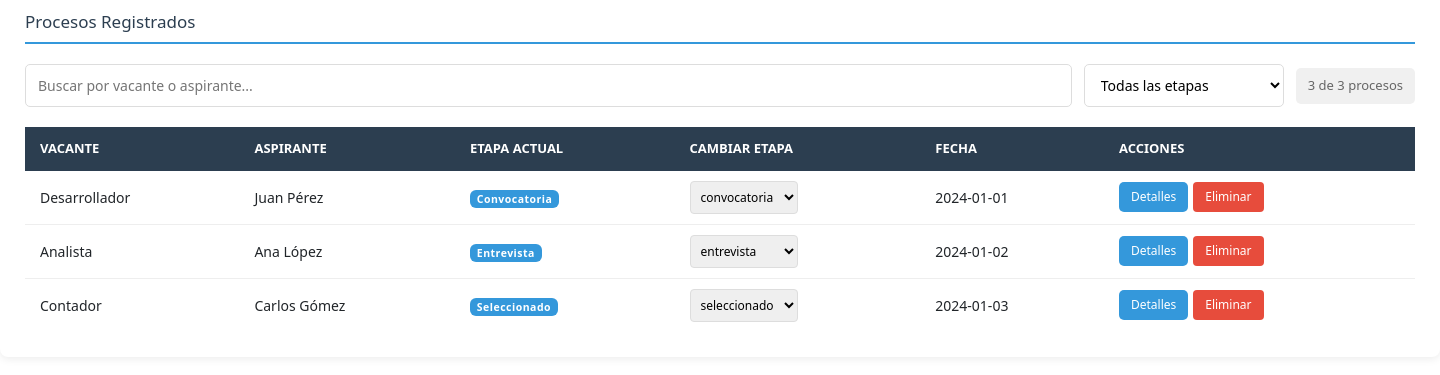
it: <ProcesosTable /> › filtra por etapa
Note: Apuntamos específicamente al select de filtro por su clase
Select "Entrevista" in the dropdown with class "select-filtro": (1184, 86) [1084,64,1284,107]
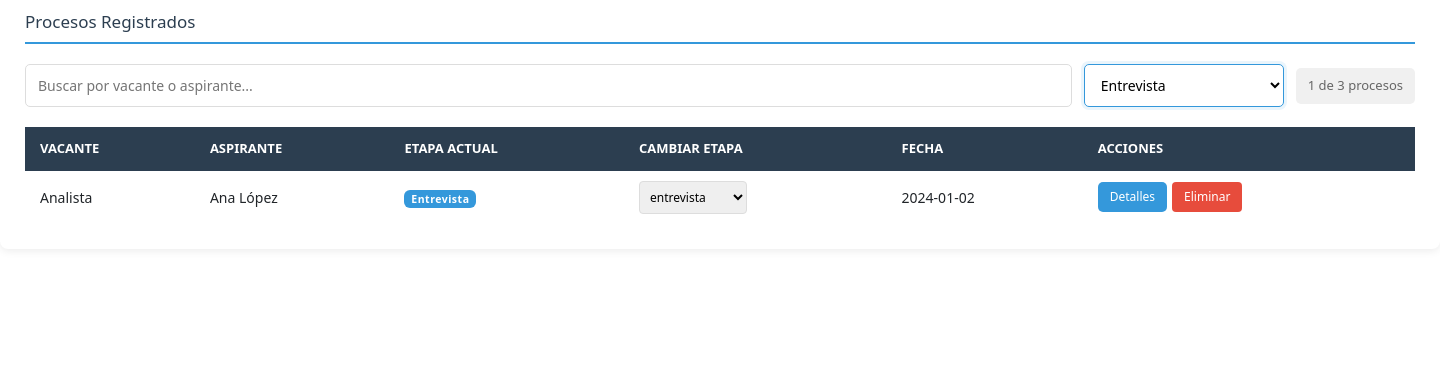
Expected: the text "Ana López" is shown, [195,171,390,224]
Result: the text "Juan Pérez" is gone
